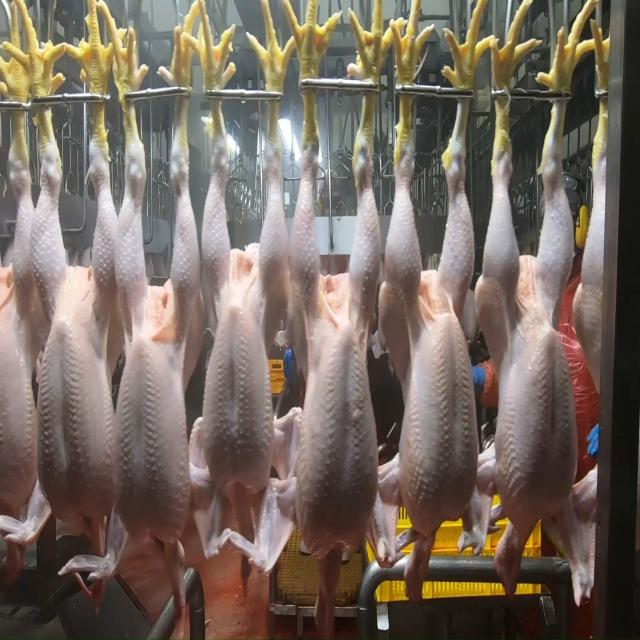chicken: (377, 95, 483, 524), (477, 115, 577, 546), (112, 73, 200, 557), (287, 134, 386, 556), (36, 106, 113, 530), (204, 110, 288, 492), (0, 113, 41, 552)
